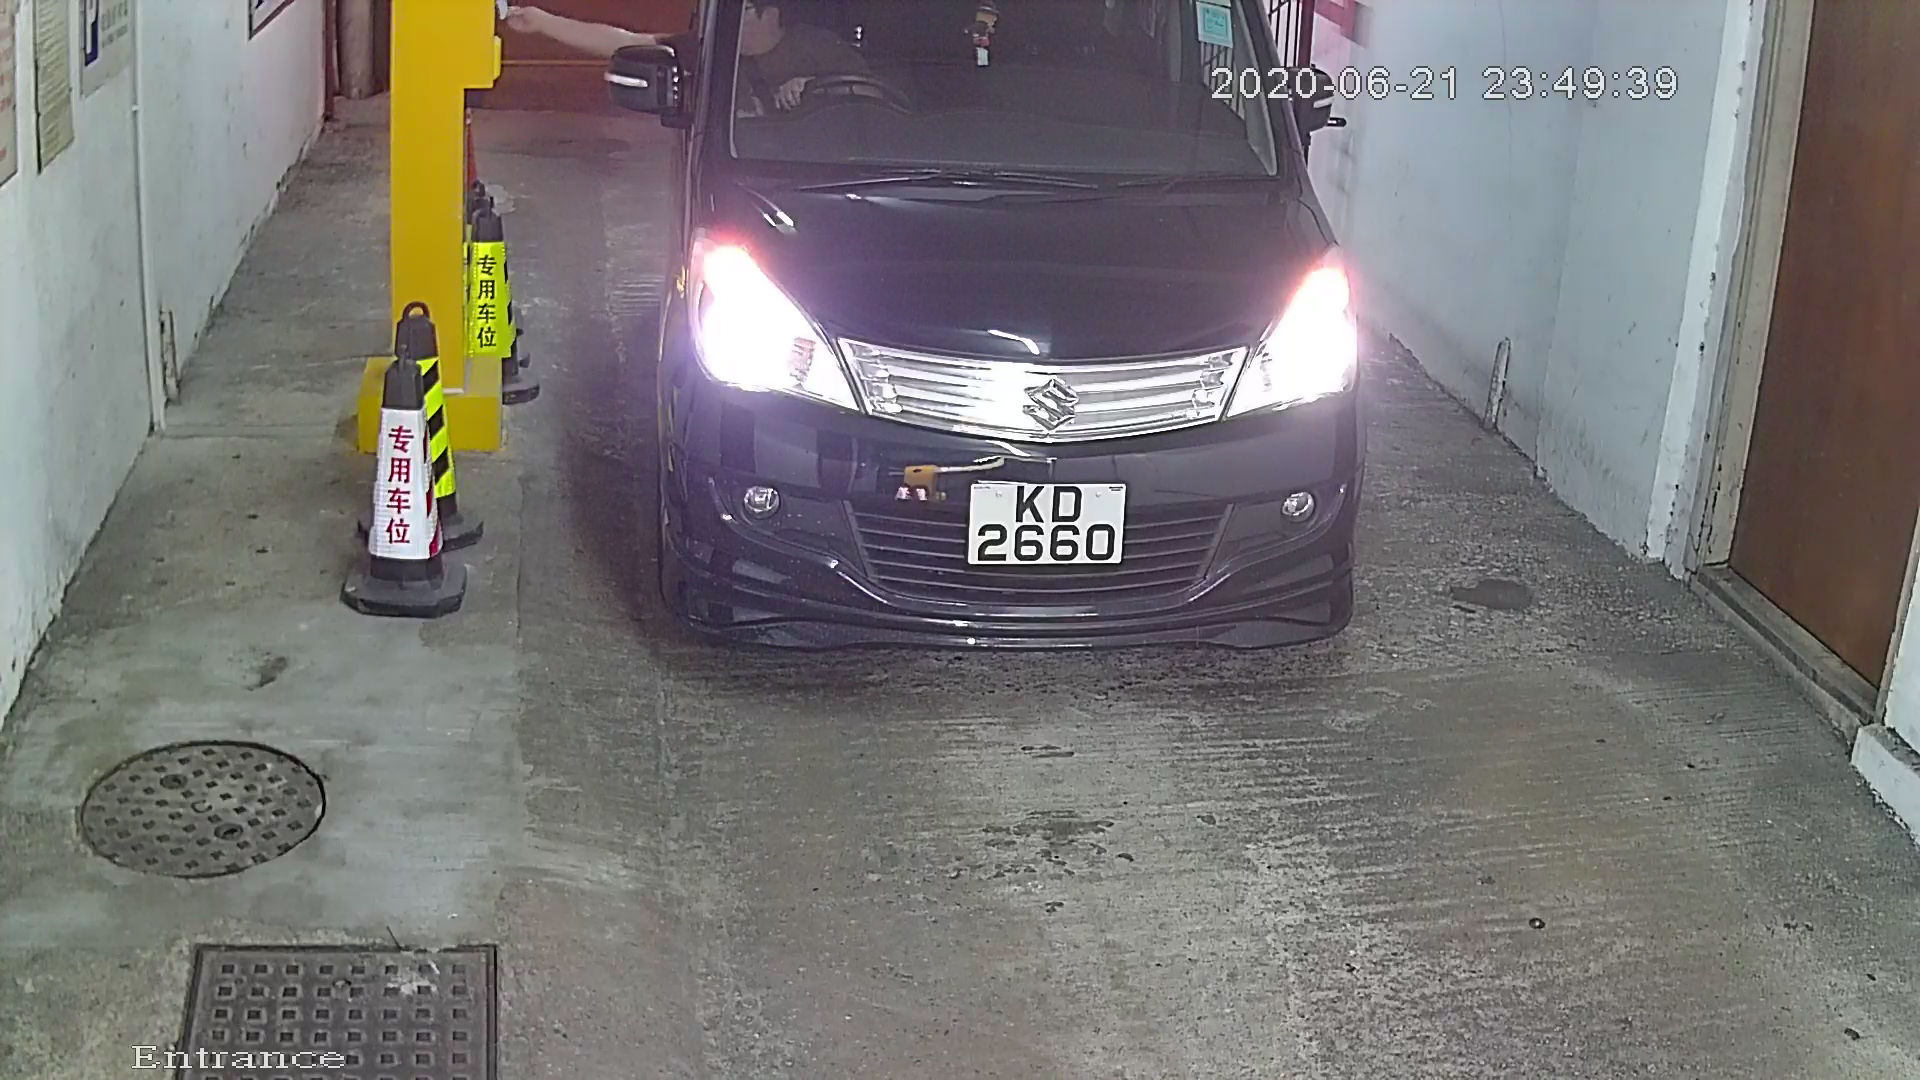privatecar: (563, 1, 1437, 721)
